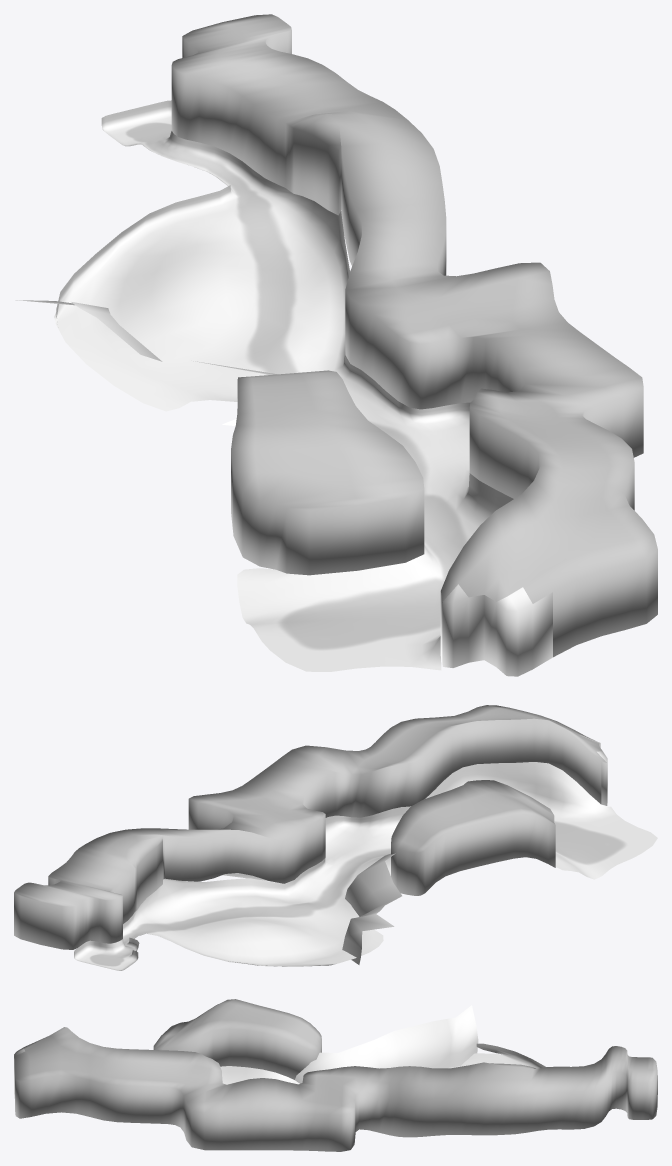
File: PBR - Metallic Roughness Alpha-blend.glb
The picture shows the model from 3 angles, top to bottom: view 1: azimuth 30°, elevation 25°; view 2: azimuth 150°, elevation 25°; view 3: azimuth 270°, elevation 25°; orthographic projection. The views are drawn at different scales.
Visible parts, largest first — view 1: Grid.005, Grid.004, Grid.003, Grid.001; view 2: Grid.005, Grid.004, Grid.001, Grid.003; view 3: Grid.005, Grid.001, Grid.004.
Part boxes in pixels (x1,y1,x2,y2): Grid.005: (171, 14, 657, 657); Grid.004: (54, 100, 513, 671); Grid.003: (341, 210, 552, 676); Grid.001: (15, 300, 276, 426); Grid.005: (14, 705, 606, 949); Grid.004: (74, 762, 657, 970); Grid.001: (342, 853, 401, 964); Grid.003: (222, 735, 607, 880); Grid.005: (14, 999, 657, 1151); Grid.001: (295, 1005, 478, 1083); Grid.004: (220, 1043, 657, 1094).
Size of the model in its own units: 15.73 by 5.57 by 31.58.
Materials: 3 (3 with a texture image).
